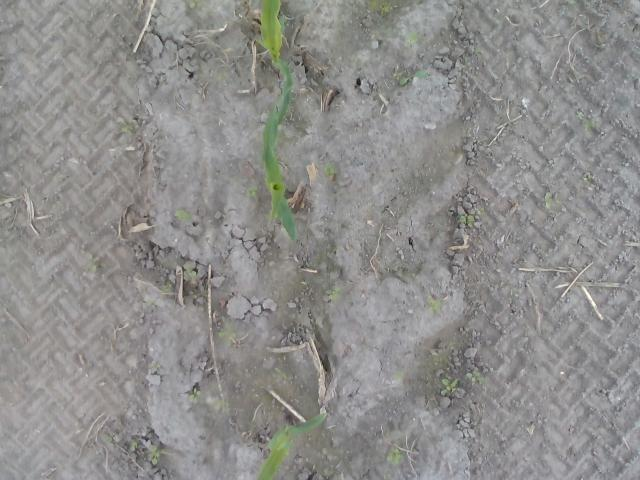Maize: (250, 0, 300, 243), (256, 412, 328, 480)
Weeds: (458, 207, 486, 226), (394, 71, 426, 86), (84, 253, 108, 273), (578, 112, 602, 132), (218, 322, 235, 346), (439, 377, 459, 397), (116, 117, 136, 137), (388, 448, 406, 468), (466, 368, 484, 386), (403, 26, 418, 46), (369, 2, 395, 13), (328, 285, 346, 300), (148, 446, 160, 466), (428, 296, 442, 312), (211, 400, 229, 412), (544, 190, 554, 210), (188, 390, 202, 404), (324, 161, 338, 175), (183, 264, 196, 278), (173, 210, 190, 220), (276, 368, 290, 380), (150, 360, 162, 374), (246, 185, 258, 197), (188, 0, 204, 8), (146, 297, 156, 308), (162, 283, 172, 292), (392, 373, 404, 380), (130, 442, 138, 452), (582, 176, 594, 182), (105, 436, 114, 444)
